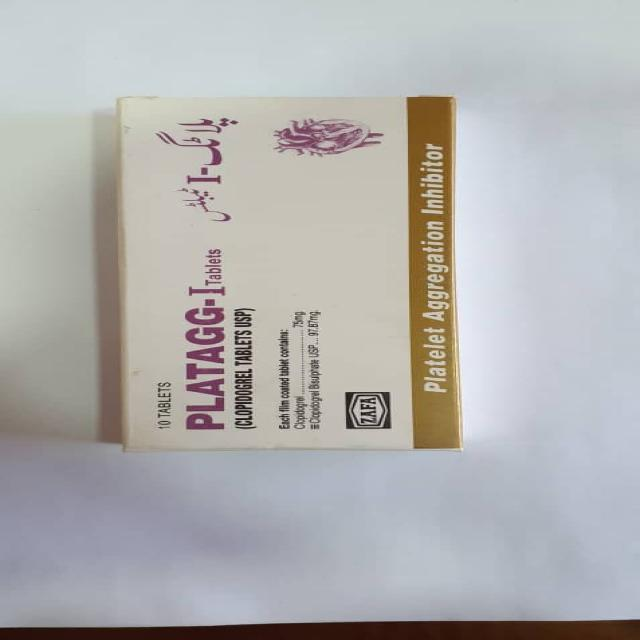drug-name: (178, 282, 229, 429)
